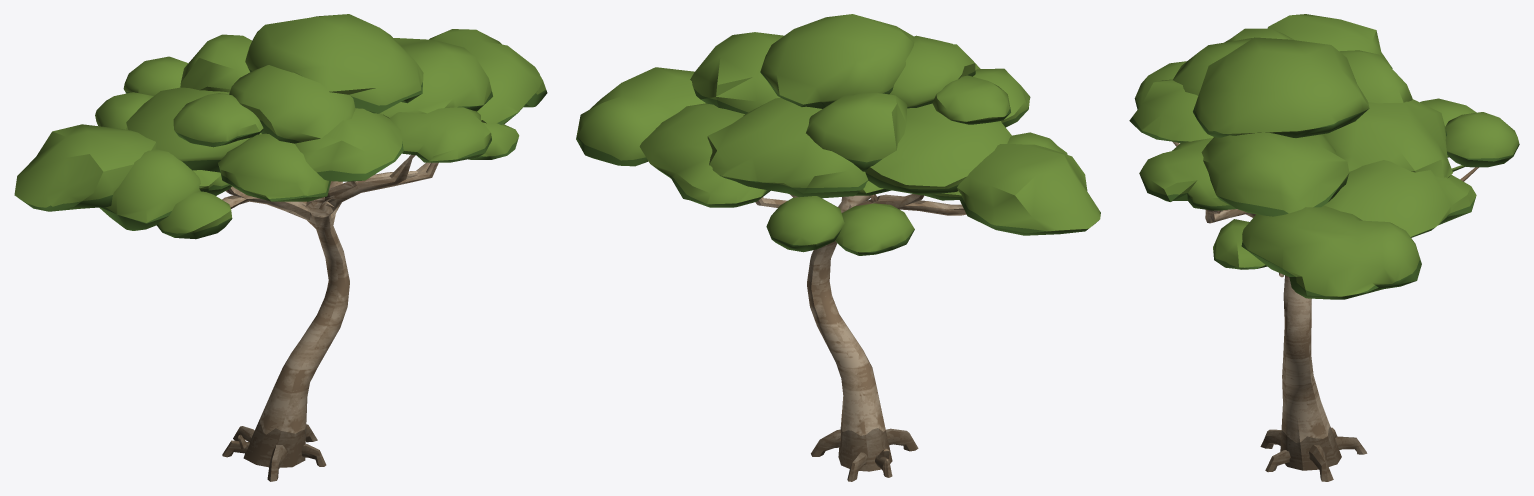
File: savanna_tree.glb
3 views of the same model, side by side, from view 1: azimuth 30°, elevation 25°; view 2: azimuth 150°, elevation 25°; view 3: azimuth 270°, elevation 25° (orthographic). The views are drawn at different scales.
Visible parts, largest first — view 1: Crown, Trunk; view 2: Crown, Trunk; view 3: Crown, Trunk.
Part boxes in pixels (left/top/right/bottom): Crown: left=14, top=14, right=547, bottom=239; Trunk: left=222, top=201, right=349, bottom=481; Crown: left=576, top=14, right=1100, bottom=255; Trunk: left=807, top=206, right=918, bottom=481; Crown: left=1129, top=14, right=1519, bottom=299; Trunk: left=1260, top=275, right=1367, bottom=481.
Size of the model in its own units: 3.56 by 2.82 by 2.34.
4 materials, 2 textured.
